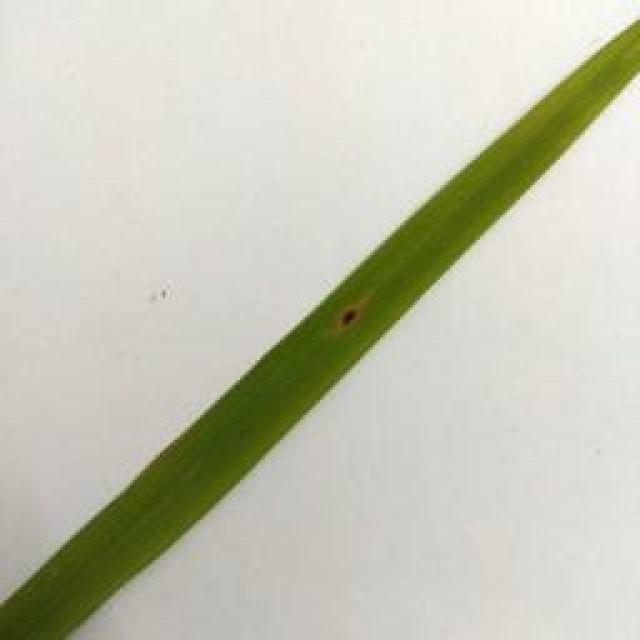Brown_Spot: (329, 288, 376, 349)
